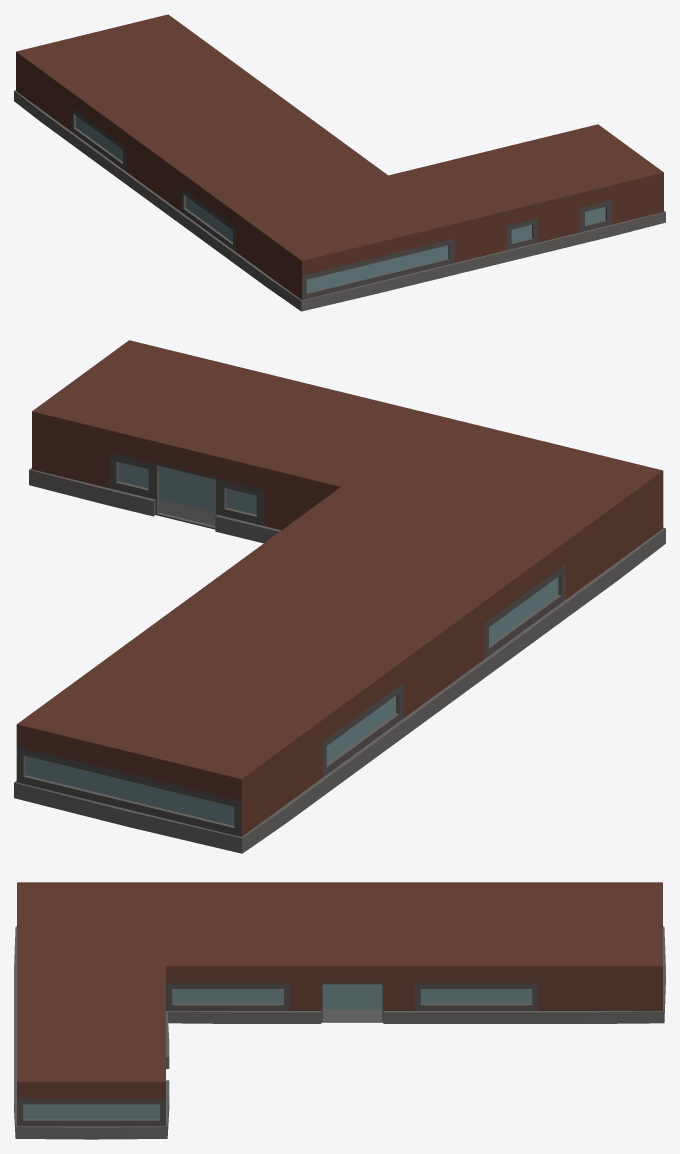
3 views of the same model, one above another, from view 1: azimuth 30°, elevation 25°; view 2: azimuth 150°, elevation 25°; view 3: azimuth 270°, elevation 25° (orthographic). The views are drawn at different scales.
Visible parts, largest first — view 1: L_Base; view 2: L_Base; view 3: L_Base.
Boxes of the visible parts, bbox=[...] form: L_Base: bbox=[14, 14, 665, 311]; L_Base: bbox=[14, 340, 665, 853]; L_Base: bbox=[14, 882, 665, 1139].
Bounding box in the file's own units: 3852 × 500 × 5250.
